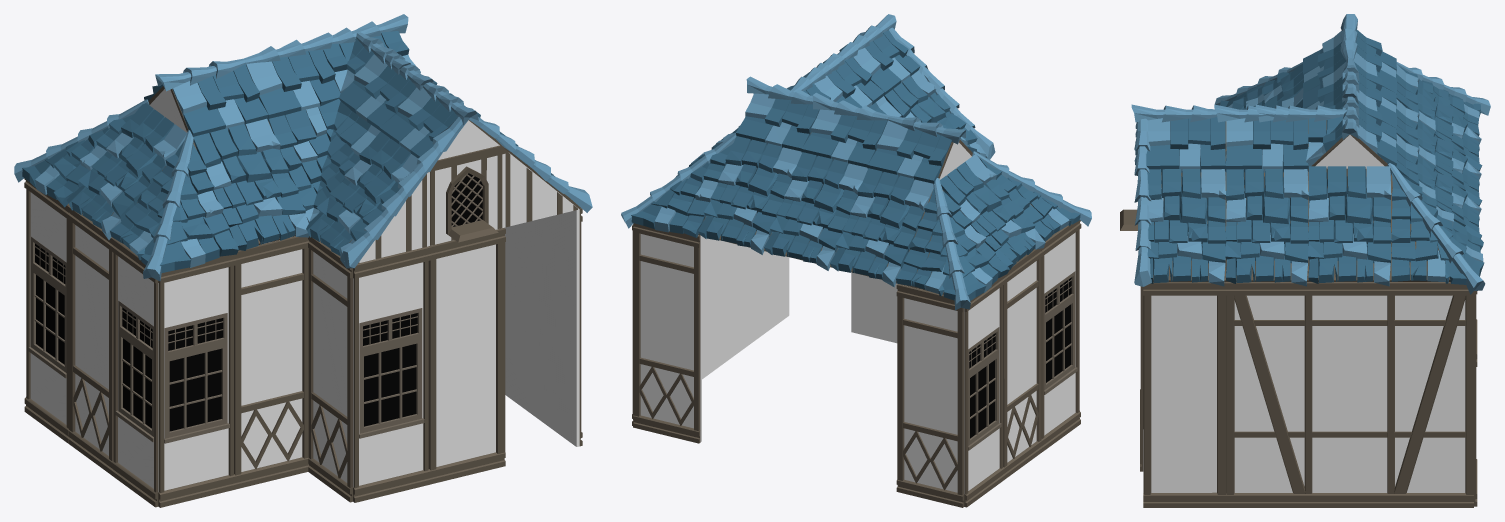
Rendered from house_06_parts.fbx.
3 views of the same model, side by side, from view 1: azimuth 30°, elevation 25°; view 2: azimuth 150°, elevation 25°; view 3: azimuth 270°, elevation 25° (orthographic). The views are drawn at different scales.
Parts seen in each view (by area): view 1: WALL_03_3, WINDOW_04_3, WINDOW_04_4, WALL_01_3, WINDOW_04_5, WALL_03_4, WALL_01_4, WALL_01_2, WINDOW_04_6, ROOF_corner_out_4, ROOF_base_10, ROOF_base_11 (+21 smaller); view 2: WALL_01_6, WALL_01_5, WINDOW_04_6, WINDOW_04_5, WALL_01_4, ROOF_corner_out_3, ROOF_base_8, ROOF_base_7, ROOF_base_6, WALL_02_2, ROOF_base_11, ROOF_corner_out_2 (+16 smaller); view 3: WALL_02_2, WALL_03_4, ROOF_base_5, ROOF_base_4, ROOF_base_3, ROOF_corner_out_2, ROOF_base_small_5, ROOF_base_small_4, ROOF_base_6, ROOF_base_8, ROOF_base_7, ROOF_tile_side_2 (+18 smaller).
Part boxes in pixels (left/top/right/bottom): WALL_03_3: left=428, top=228, right=505, bottom=484; WINDOW_04_3: left=353, top=246, right=430, bottom=502; WINDOW_04_4: left=158, top=254, right=235, bottom=507; WALL_01_3: left=234, top=236, right=308, bottom=489; WINDOW_04_5: left=111, top=238, right=158, bottom=507; WALL_03_4: left=533, top=208, right=582, bottom=446; WALL_01_4: left=68, top=206, right=113, bottom=474; WALL_01_2: left=308, top=236, right=352, bottom=502; WINDOW_04_6: left=24, top=178, right=69, bottom=443; ROOF_corner_out_4: left=110, top=130, right=238, bottom=281; ROOF_base_10: left=193, top=118, right=309, bottom=250; ROOF_base_11: left=66, top=103, right=186, bottom=239; WALL_01_6: left=633, top=223, right=701, bottom=443; WALL_01_5: left=896, top=284, right=964, bottom=507; WINDOW_04_6: left=964, top=275, right=1004, bottom=507; WINDOW_04_5: left=1041, top=220, right=1081, bottom=451; WALL_01_4: left=1003, top=248, right=1042, bottom=479; ROOF_corner_out_3: left=896, top=178, right=1009, bottom=310; ROOF_base_8: left=830, top=168, right=933, bottom=287; ROOF_base_7: left=764, top=152, right=867, bottom=270; ROOF_base_6: left=698, top=136, right=801, bottom=254; WALL_02_2: left=632, top=225, right=751, bottom=425; ROOF_base_11: left=940, top=154, right=1045, bottom=269; ROOF_corner_out_2: left=621, top=132, right=736, bottom=237; WALL_02_2: left=1226, top=282, right=1473, bottom=507; WALL_03_4: left=1143, top=282, right=1225, bottom=507; ROOF_base_5: left=1307, top=166, right=1391, bottom=286; ROOF_base_4: left=1225, top=166, right=1308, bottom=286; ROOF_base_3: left=1143, top=166, right=1226, bottom=286; ROOF_corner_out_2: left=1387, top=163, right=1485, bottom=294; ROOF_base_small_5: left=1226, top=118, right=1308, bottom=172; ROOF_base_small_4: left=1146, top=117, right=1225, bottom=172; ROOF_base_6: left=1396, top=134, right=1481, bottom=238; ROOF_base_8: left=1396, top=64, right=1482, bottom=171; ROOF_base_7: left=1396, top=99, right=1482, bottom=206; ROOF_tile_side_2: left=1134, top=118, right=1151, bottom=286.
Size of the model in its own units: 541 by 465 by 449.
